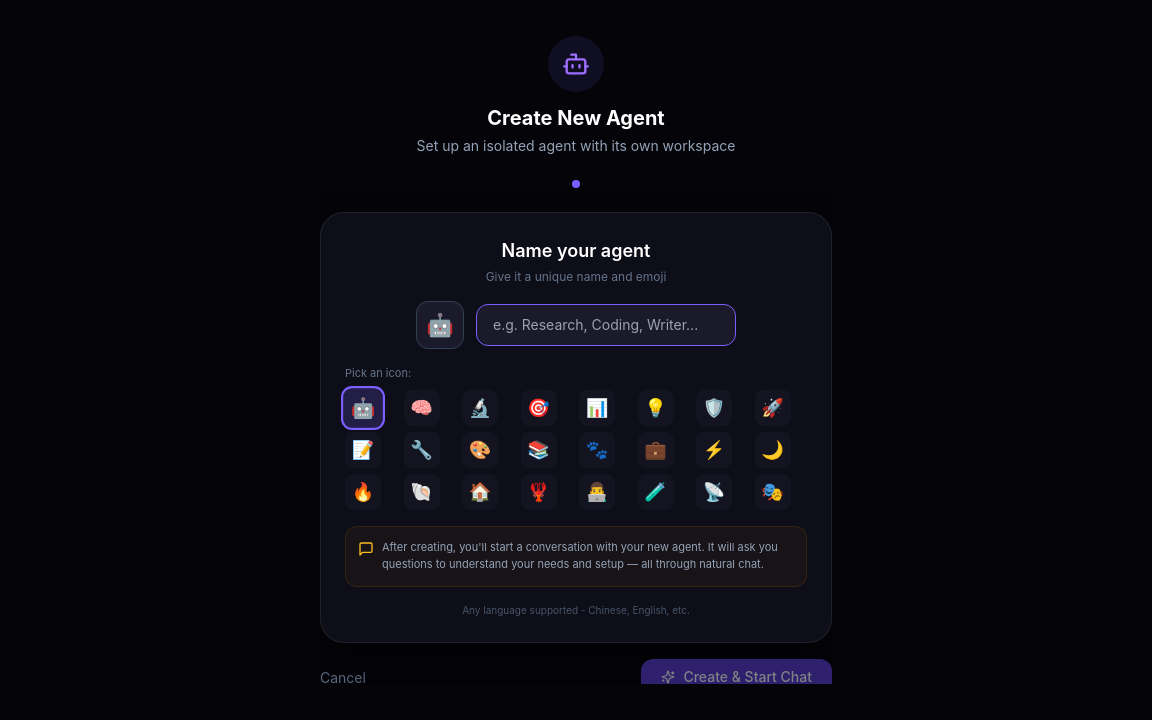
it: AgentWizard › rejects id-like name pattern oc-<digits> in wizard
Type "oc-1775820266907" into the field with placeholder "e.g. Research, Coding, Writer...".
click(606, 325); type("oc-1775820266907")  # box [476,304,736,346]
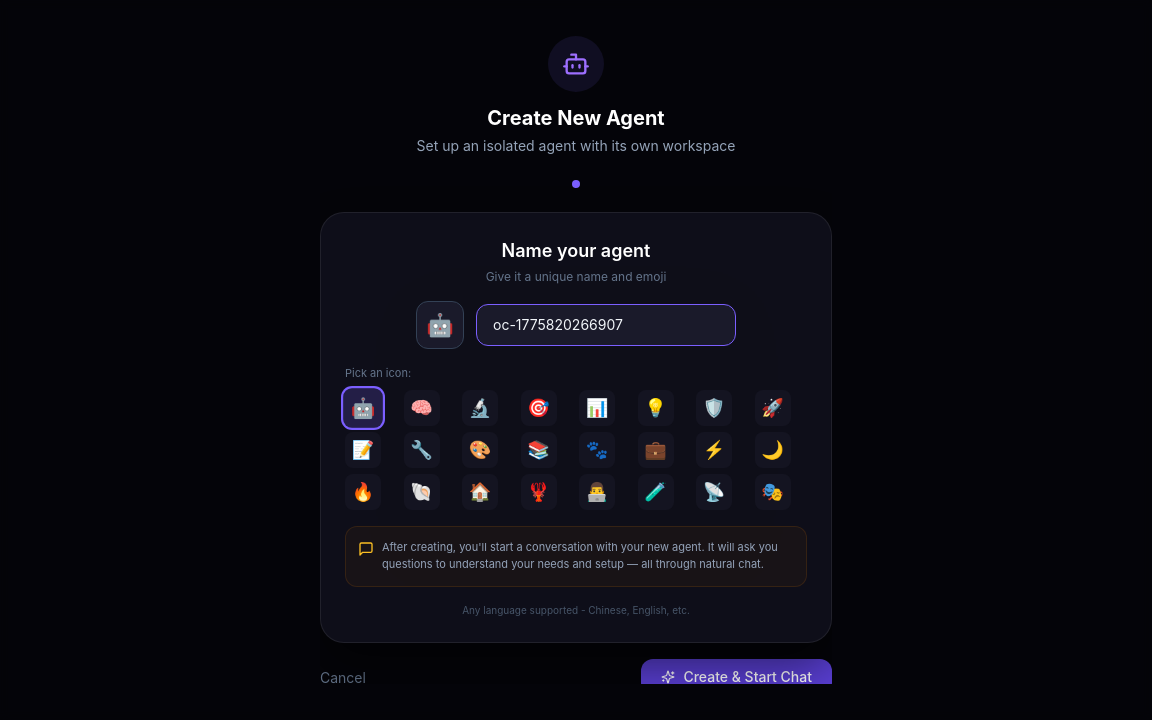
Click the button with test id "agent-create-btn".
click(737, 677)  # box [641,659,832,695]
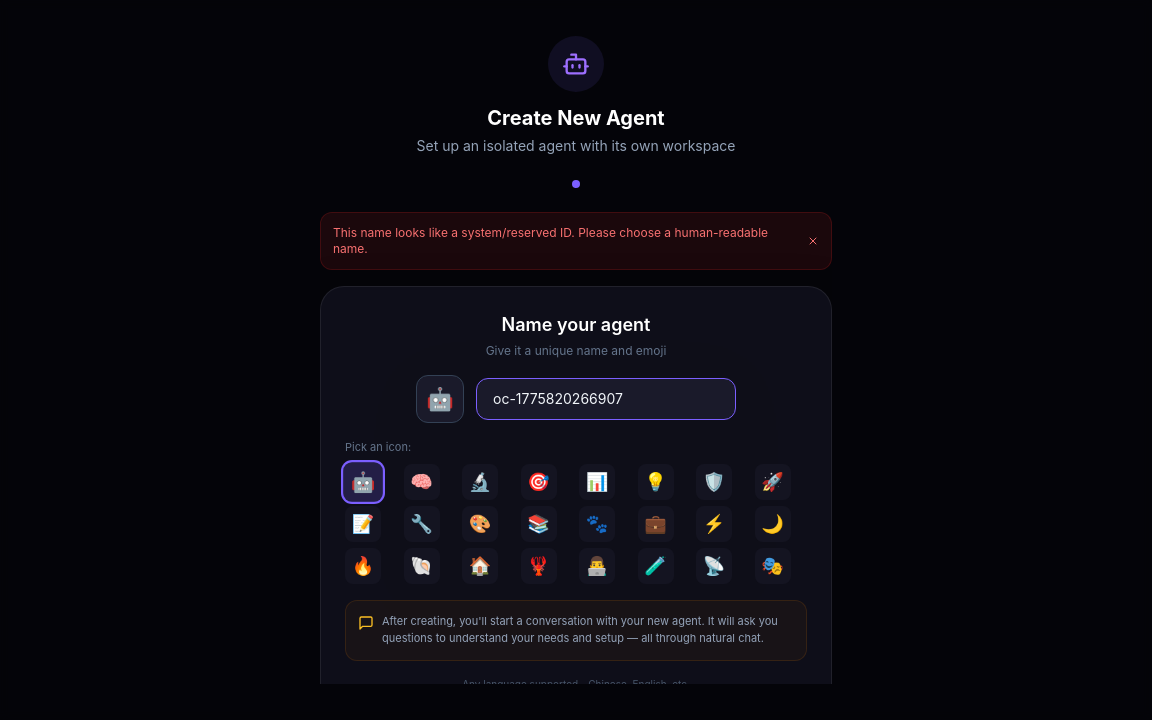
Result: the text "system/reserved ID" is shown at [333,225,768,256]
